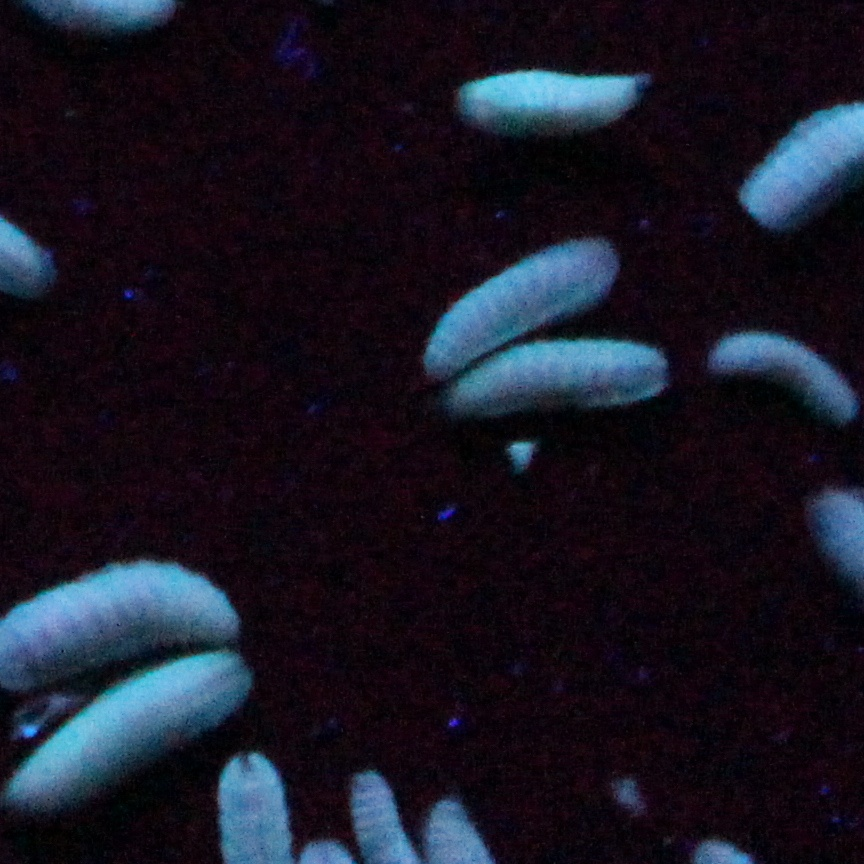larve: (13, 651, 257, 803), (427, 227, 625, 379), (453, 343, 668, 424), (700, 316, 854, 421), (456, 69, 653, 123)
